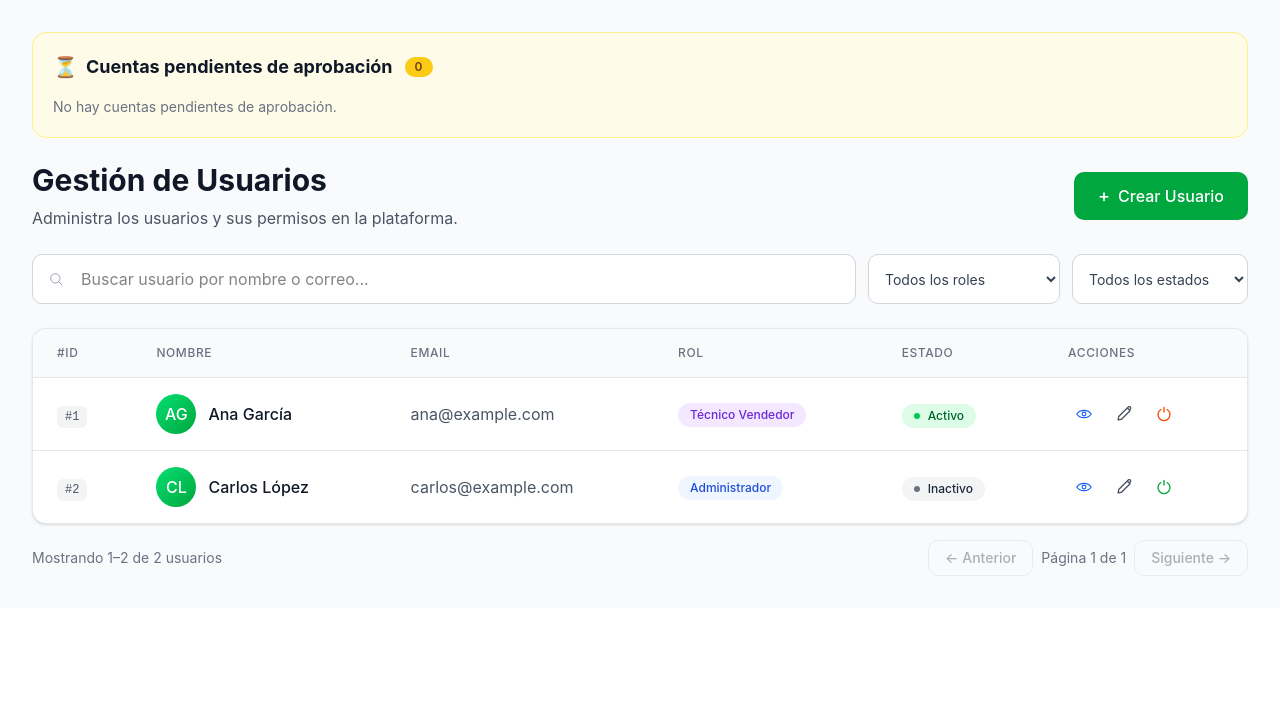
Test: GestionUsuariosPanel › opens confirm deactivate modal when toggle is clicked on active user
This screenshot has width=1280, height=720.
What coordinates should you click on to do the following:
click the button named "Desactivar Ana García"
I would click on:
 (1164, 414)
Its box is [1148,398,1180,430].
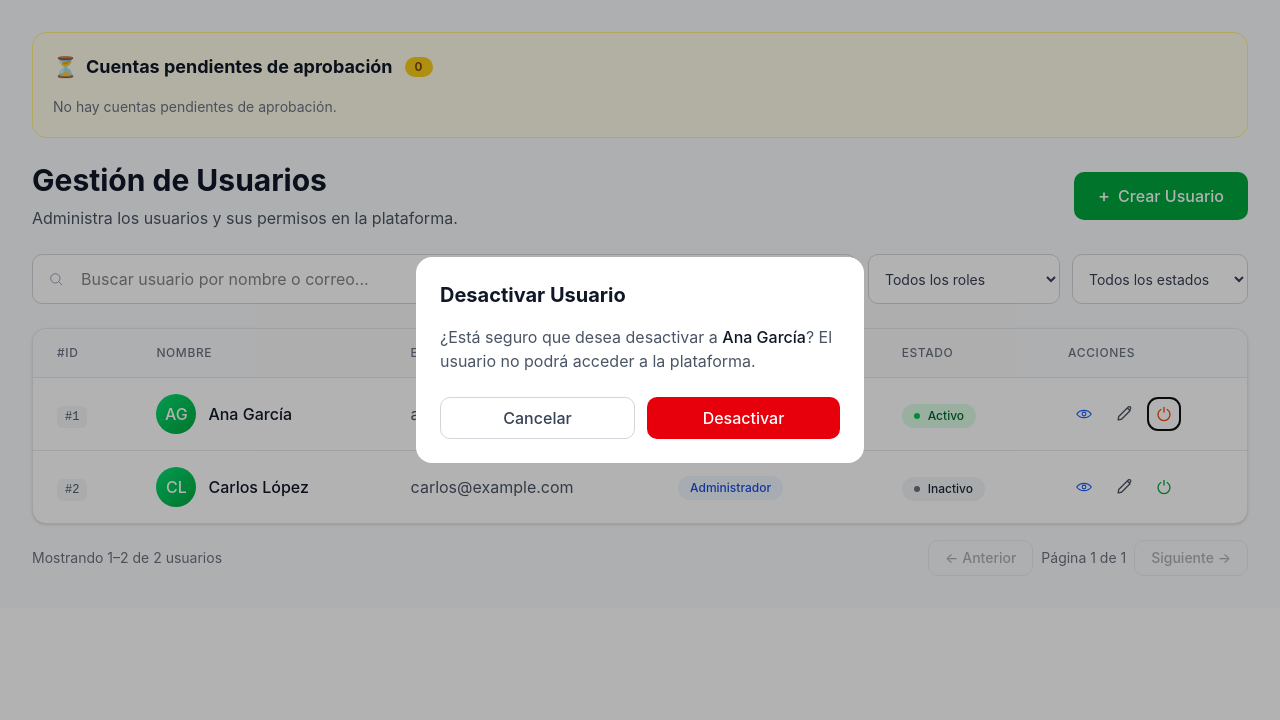
Expected: the element with test id "confirm-deactivate-modal" is shown, [416,257,864,463]
Expected: the heading "Desactivar Usuario" is shown, [440,283,626,307]
Expected: the element with test id "confirm-deactivate-modal" shows "Ana García", [722,327,806,347]
